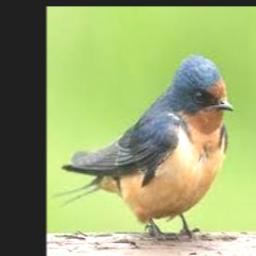Swallow: (53, 54, 234, 235)
